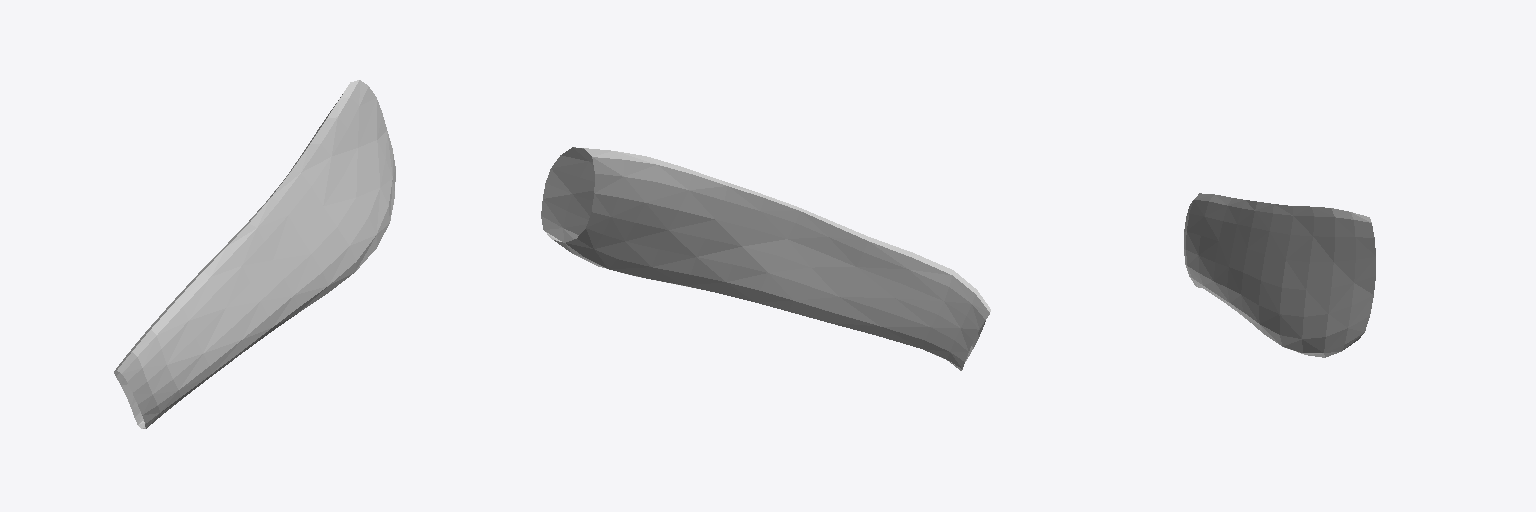
Rendered from corrugator_supercilii_left.obj.
3 renders of one model, left to right at view 1: azimuth 30°, elevation 25°; view 2: azimuth 150°, elevation 25°; view 3: azimuth 270°, elevation 25°, orthographic.
Parts seen in each view (by area): view 1: Corrugator_Supercilii_Muscle_Left; view 2: Corrugator_Supercilii_Muscle_Left; view 3: Corrugator_Supercilii_Muscle_Left.
Part boxes in pixels (x1,y1,x2,y2): Corrugator_Supercilii_Muscle_Left: (114, 80, 395, 428); Corrugator_Supercilii_Muscle_Left: (541, 147, 990, 370); Corrugator_Supercilii_Muscle_Left: (1184, 193, 1375, 357).
Bounding box in the file's own units: 0.2513 × 0.1407 × 0.115.